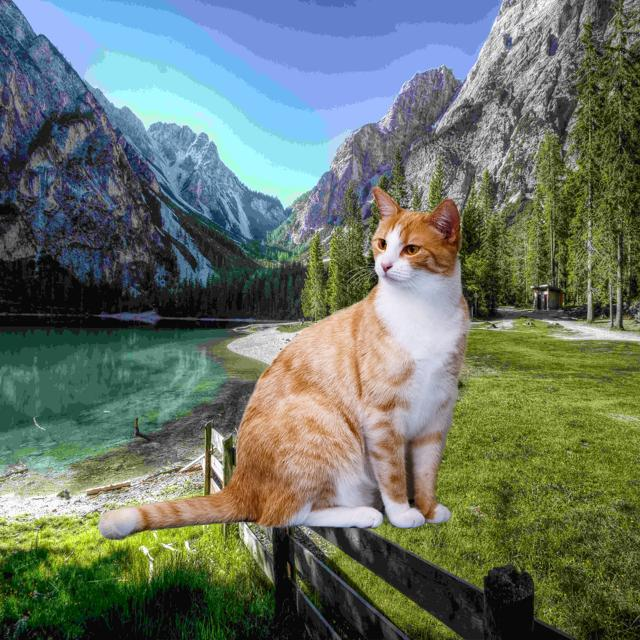cat: (77, 172, 492, 554)
